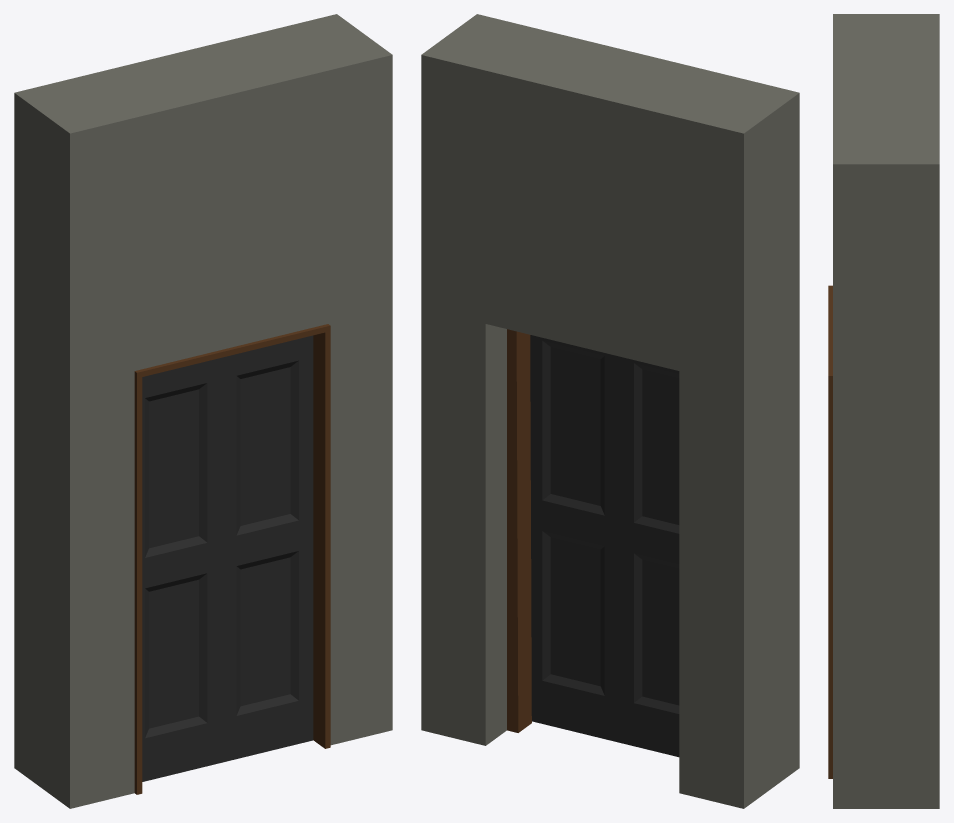
The model's file is Door.fbx.
The picture shows the model from 3 angles, left to right: view 1: azimuth 30°, elevation 25°; view 2: azimuth 150°, elevation 25°; view 3: azimuth 270°, elevation 25°; orthographic projection. The views are drawn at different scales.
Visible parts, largest first — view 1: Cube.011; view 2: Cube.011; view 3: Cube.011.
Boxes of the visible parts, box(x1,y1,x2,y2) form: Cube.011: box(14, 14, 392, 808); Cube.011: box(421, 14, 799, 808); Cube.011: box(828, 14, 939, 808).
Size of the model in its own units: 200 by 400 by 62.5.
